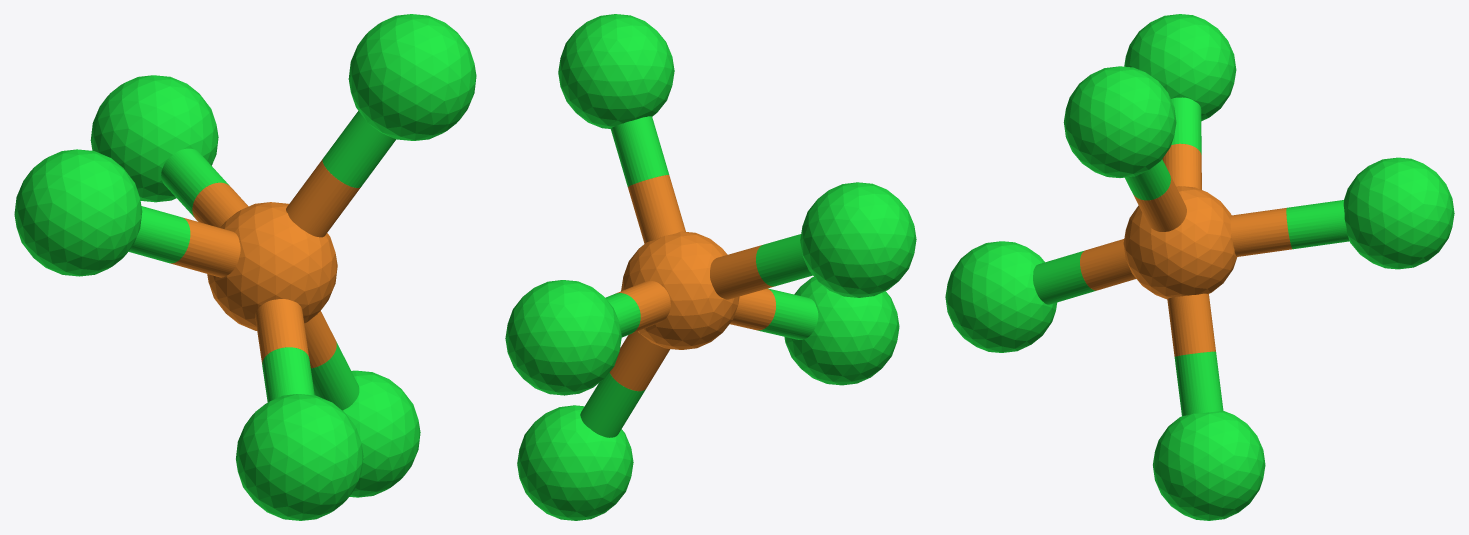
File: PCl5.gltf
The picture shows the model from 3 angles, left to right: view 1: azimuth 30°, elevation 25°; view 2: azimuth 150°, elevation 25°; view 3: azimuth 270°, elevation 25°; orthographic projection. The views are drawn at different scales.
Visible parts, largest first — view 1: Shape_IndexedFaceSet.018, Shape_IndexedFaceSet.016, Shape_IndexedFaceSet.020, Shape_IndexedFaceSet.015, Shape_IndexedFaceSet.017, Shape_IndexedFaceSet.019, Shape_IndexedFaceSet.023, Shape_IndexedFaceSet.021, Shape_IndexedFaceSet.028, Shape_IndexedFaceSet.029, Shape_IndexedFaceSet.034, Shape_IndexedFaceSet.032 (+4 smaller); view 2: Shape_IndexedFaceSet.017, Shape_IndexedFaceSet.018, Shape_IndexedFaceSet.020, Shape_IndexedFaceSet.019, Shape_IndexedFaceSet.015, Shape_IndexedFaceSet.016, Shape_IndexedFaceSet.023, Shape_IndexedFaceSet.021, Shape_IndexedFaceSet.026, Shape_IndexedFaceSet.025, Shape_IndexedFaceSet.028, Shape_IndexedFaceSet.029 (+4 smaller); view 3: Shape_IndexedFaceSet.020, Shape_IndexedFaceSet.017, Shape_IndexedFaceSet.019, Shape_IndexedFaceSet.016, Shape_IndexedFaceSet.015, Shape_IndexedFaceSet.018, Shape_IndexedFaceSet.026, Shape_IndexedFaceSet.025, Shape_IndexedFaceSet.032, Shape_IndexedFaceSet.031, Shape_IndexedFaceSet.035, Shape_IndexedFaceSet.034 (+4 smaller).
Boxes of the visible parts, box(x1,y1,x2,y2) form: Shape_IndexedFaceSet.018: box(14, 149, 142, 276); Shape_IndexedFaceSet.016: box(236, 394, 363, 520); Shape_IndexedFaceSet.020: box(348, 14, 476, 140); Shape_IndexedFaceSet.015: box(207, 202, 337, 330); Shape_IndexedFaceSet.017: box(90, 75, 218, 202); Shape_IndexedFaceSet.019: box(342, 370, 420, 497); Shape_IndexedFaceSet.023: box(322, 111, 395, 187); Shape_IndexedFaceSet.021: box(286, 159, 360, 237); Shape_IndexedFaceSet.028: box(170, 218, 240, 277); Shape_IndexedFaceSet.029: box(128, 206, 190, 263); Shape_IndexedFaceSet.034: box(255, 299, 309, 364); Shape_IndexedFaceSet.032: box(161, 148, 229, 217); Shape_IndexedFaceSet.017: box(505, 280, 621, 395); Shape_IndexedFaceSet.018: box(800, 182, 916, 297); Shape_IndexedFaceSet.020: box(558, 14, 674, 128); Shape_IndexedFaceSet.019: box(517, 405, 633, 520); Shape_IndexedFaceSet.015: box(621, 231, 739, 349); Shape_IndexedFaceSet.016: box(784, 277, 899, 385); Shape_IndexedFaceSet.023: box(610, 116, 669, 186); Shape_IndexedFaceSet.021: box(628, 175, 685, 243); Shape_IndexedFaceSet.026: box(580, 372, 645, 437); Shape_IndexedFaceSet.025: box(609, 331, 670, 391); Shape_IndexedFaceSet.028: box(710, 245, 774, 299); Shape_IndexedFaceSet.029: box(756, 234, 812, 286); Shape_IndexedFaceSet.020: box(1063, 66, 1176, 177); Shape_IndexedFaceSet.017: box(1343, 157, 1454, 269); Shape_IndexedFaceSet.019: box(1153, 411, 1265, 520); Shape_IndexedFaceSet.016: box(945, 241, 1056, 352); Shape_IndexedFaceSet.015: box(1123, 186, 1237, 299); Shape_IndexedFaceSet.018: box(1124, 14, 1236, 121); Shape_IndexedFaceSet.026: box(1174, 351, 1223, 415); Shape_IndexedFaceSet.025: box(1167, 293, 1215, 356); Shape_IndexedFaceSet.032: box(1286, 200, 1349, 249); Shape_IndexedFaceSet.031: box(1230, 208, 1292, 256); Shape_IndexedFaceSet.035: box(1033, 250, 1095, 304); Shape_IndexedFaceSet.034: box(1080, 239, 1135, 290).
Bounding box in the file's own units: 0.3651 × 0.4313 × 0.445.
